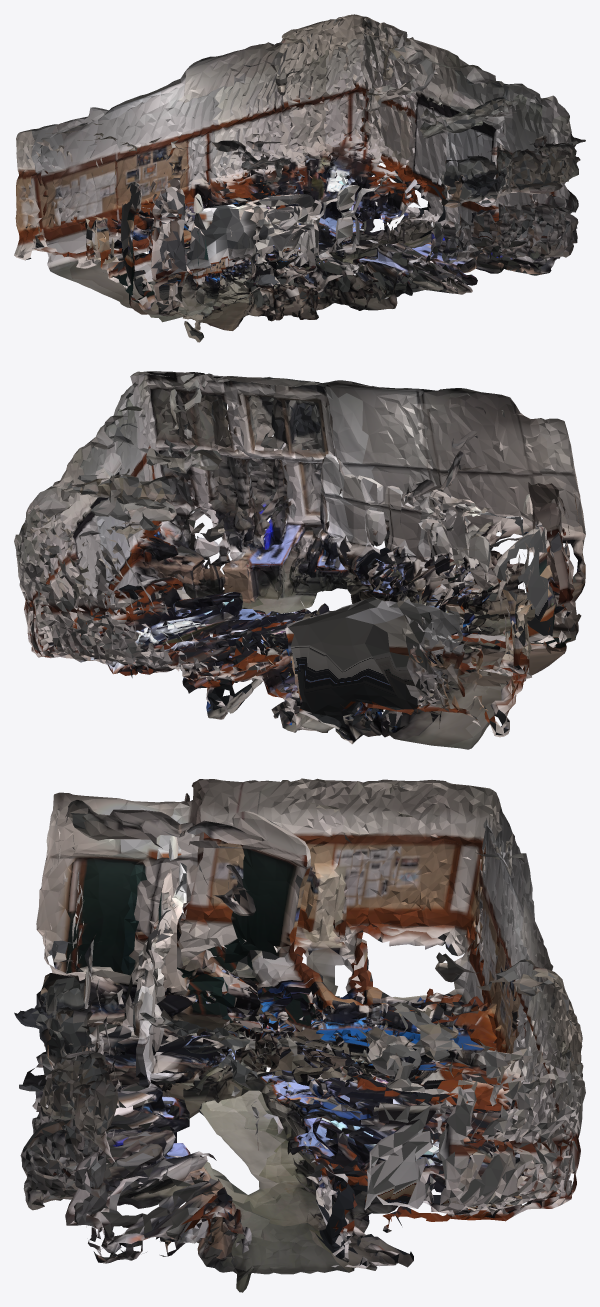
The model's file is room_photographic_model_lod2.glb.
The picture shows the model from 3 angles, top to bottom: view 1: azimuth 30°, elevation 25°; view 2: azimuth 150°, elevation 25°; view 3: azimuth 270°, elevation 25°; orthographic projection. The views are drawn at different scales.
Visible parts, largest first — view 1: room_photographic_model_lod2.obj; view 2: room_photographic_model_lod2.obj; view 3: room_photographic_model_lod2.obj.
Part boxes in pixels (box(x1,y1,x2,y2)): room_photographic_model_lod2.obj: box(14, 14, 585, 342); room_photographic_model_lod2.obj: box(14, 371, 585, 749); room_photographic_model_lod2.obj: box(14, 778, 585, 1292).
Size of the model in its own units: 1.87 by 0.8833 by 1.47.
1 material, 1 textured.
